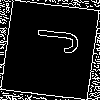J: (24, 24, 80, 56)
